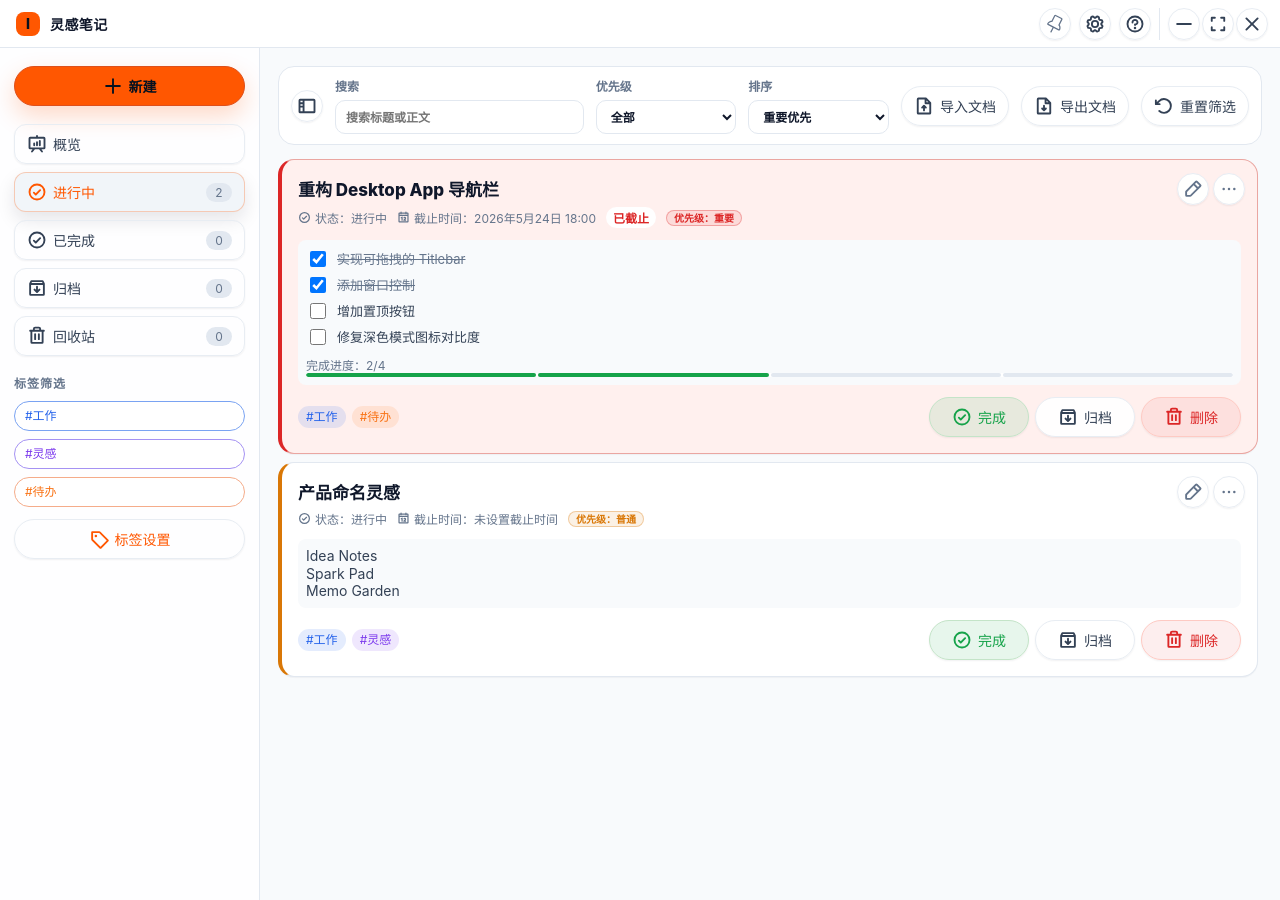
Test: App editor failure › 保存失败时保留编辑器草稿并显示错误提示
This screenshot has width=1280, height=900.
Click the button "新建" at (130, 86), box [14, 66, 245, 106]
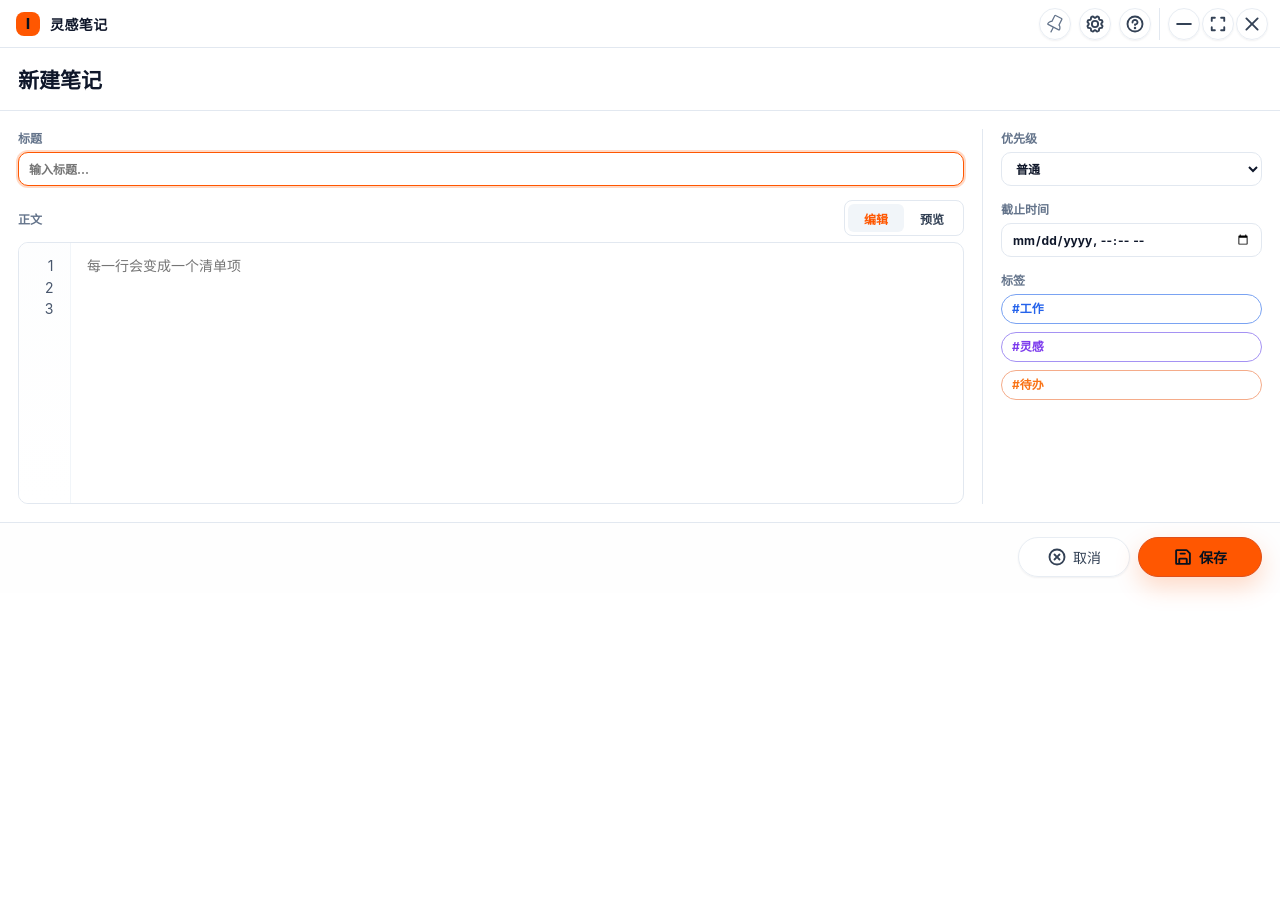
Type "保存失败标题" into the field labelled "标题" at (491, 169), box [18, 152, 964, 186]
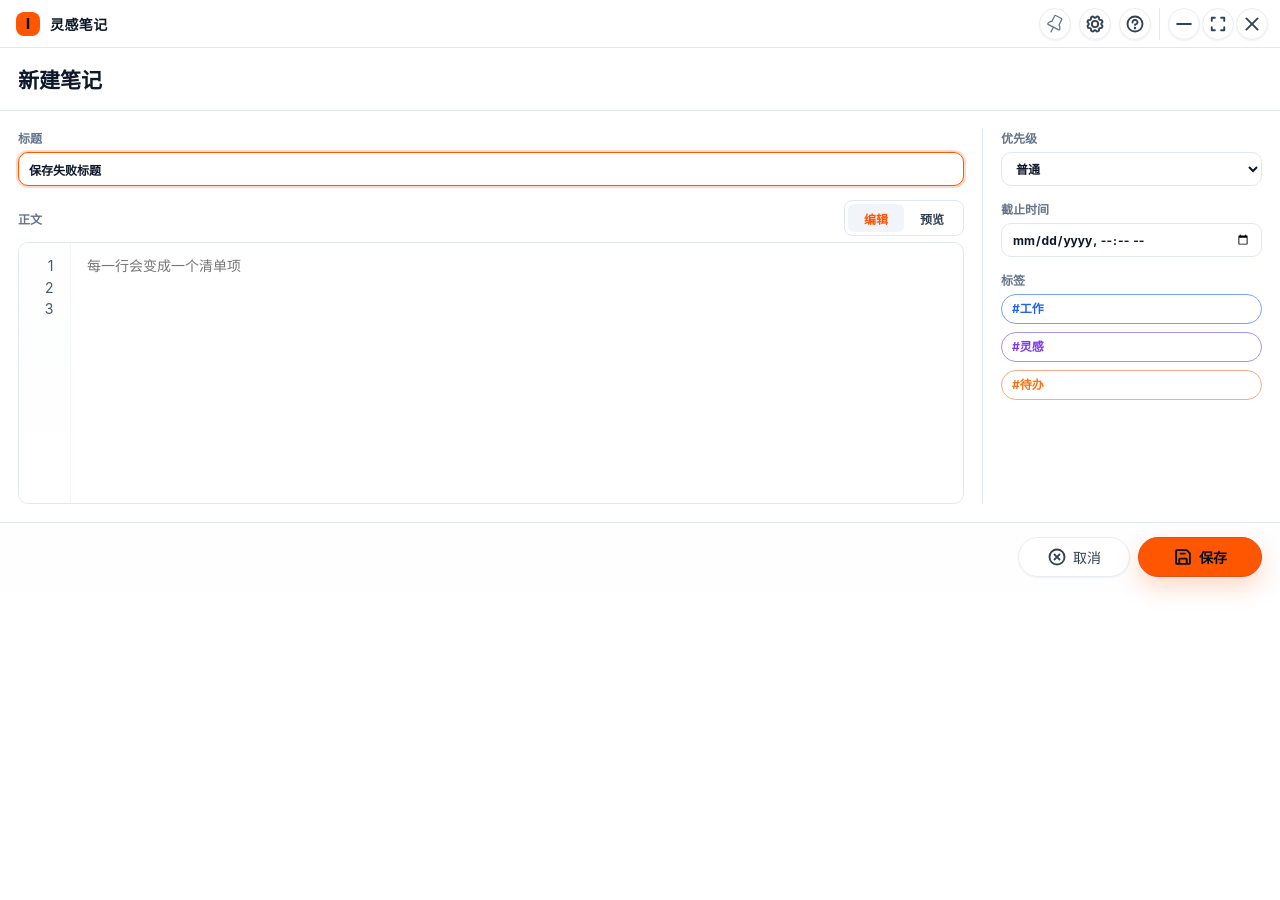
Type "保存失败正文" into the text box named "正文" at (525, 373), box [87, 243, 963, 503]
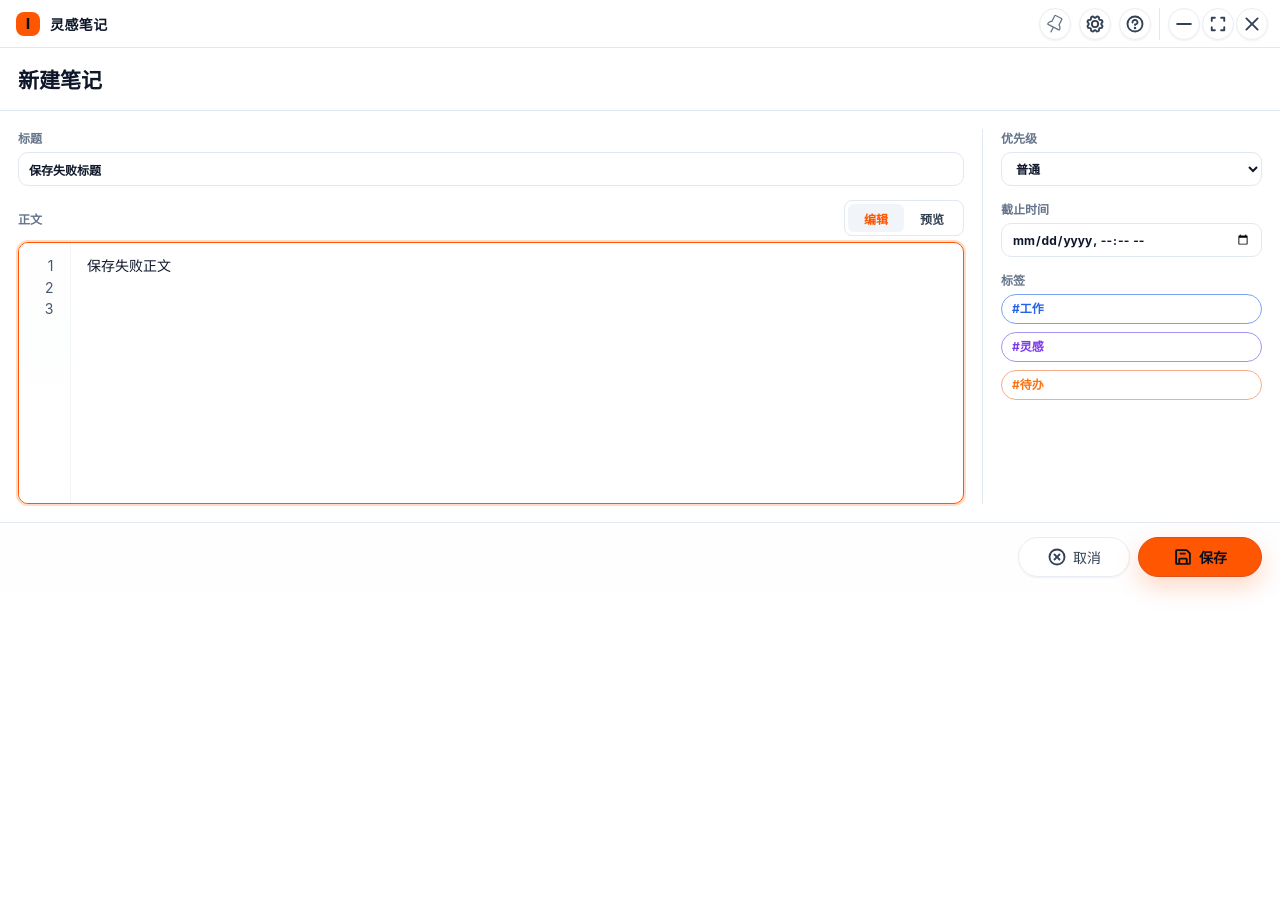
Click the button "保存" at (1200, 557), box [1138, 537, 1262, 577]
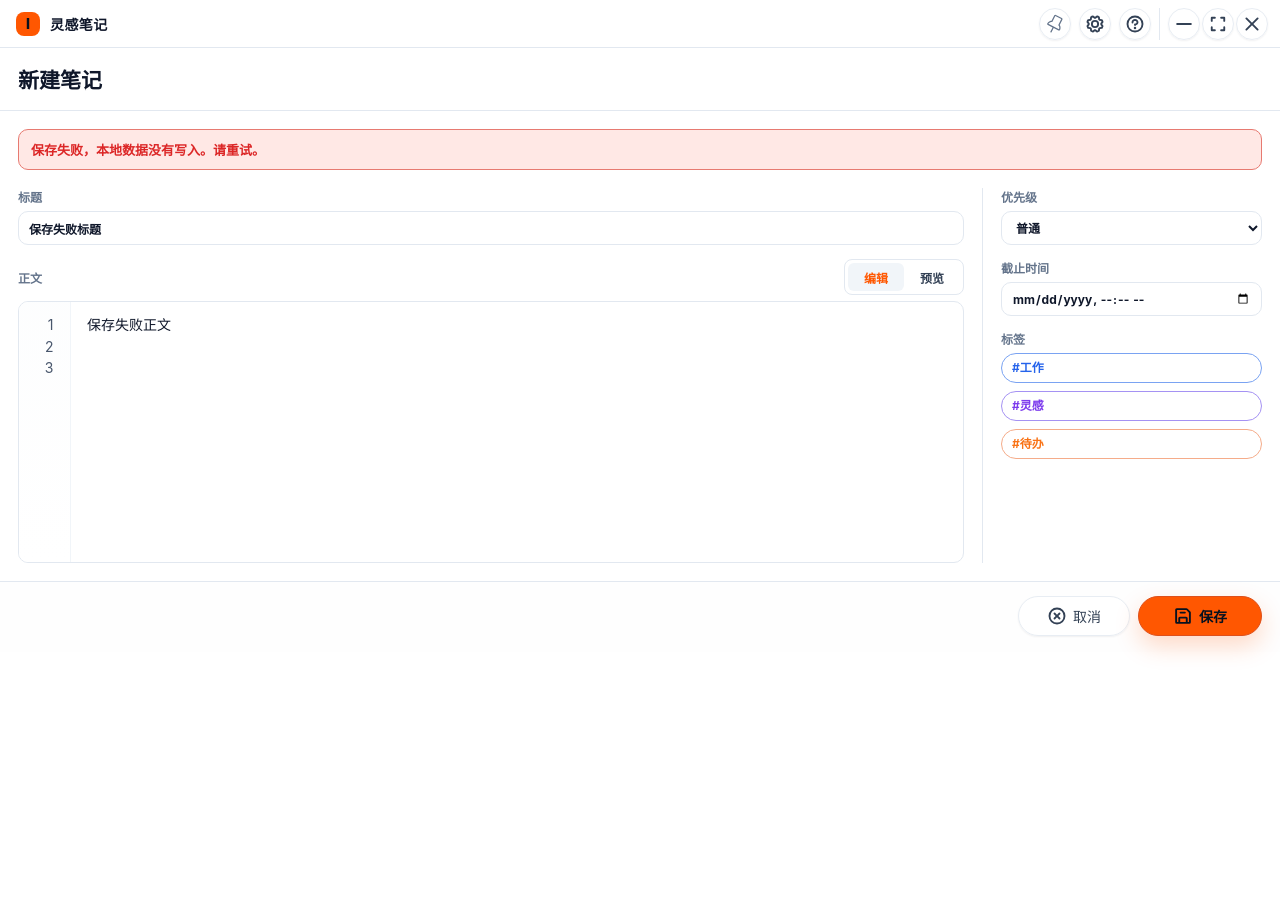
Check: the heading "新建笔记" is shown, box [18, 64, 102, 94]
Check: the message reads "保存失败，本地数据没有写入。请重试。", box [31, 142, 265, 158]
